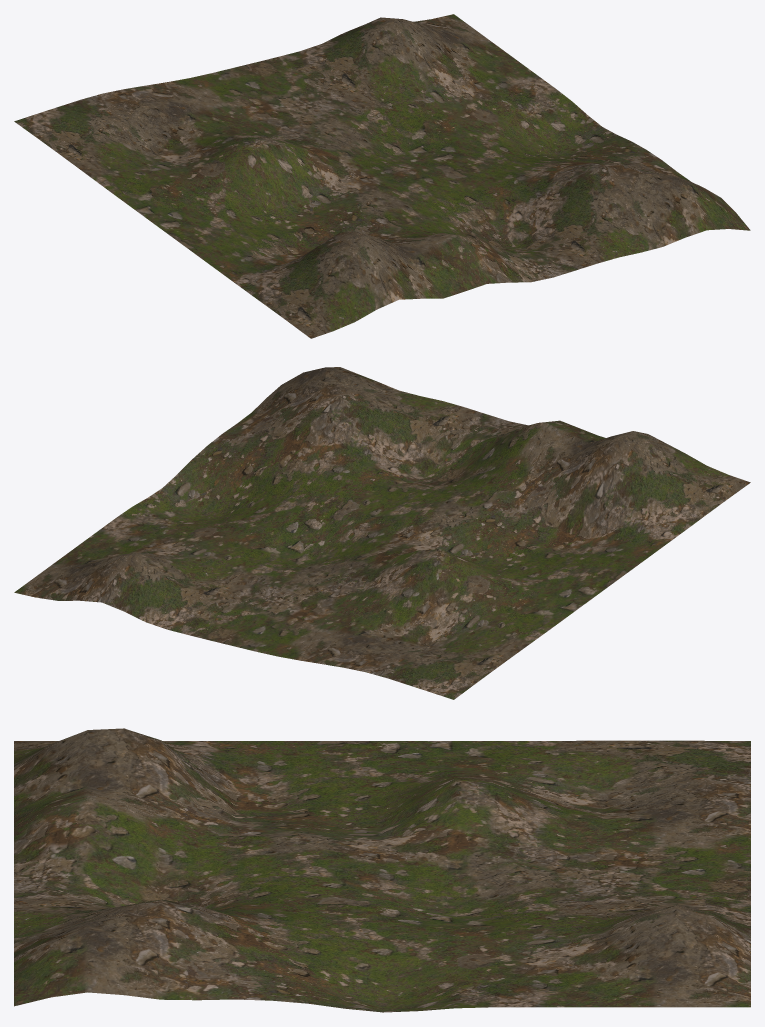
File: Groond2.fbx
3 renders of one model, top to bottom at view 1: azimuth 30°, elevation 25°; view 2: azimuth 150°, elevation 25°; view 3: azimuth 270°, elevation 25°, orthographic. The views are drawn at different scales.
Parts seen in each view (by area): view 1: pPlane1; view 2: pPlane1; view 3: pPlane1.
Boxes of the visible parts, x1,y1,x2,y2 form: pPlane1: (14,14,750,338); pPlane1: (14,367,750,699); pPlane1: (14,728,750,1012).
Size of the model in its own units: 27.74 by 4.43 by 32.45.
